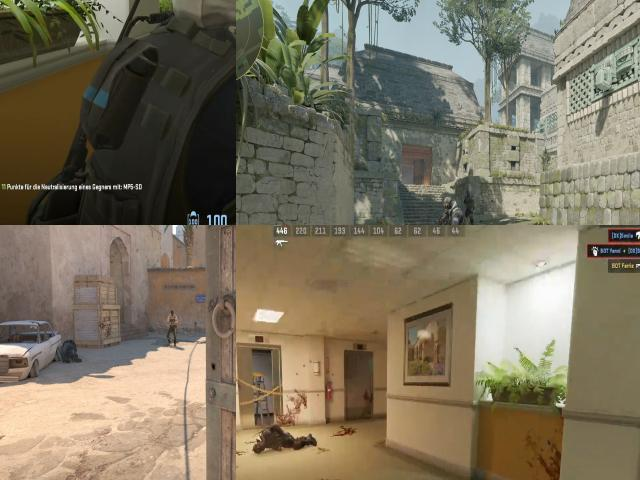CT: (439, 193, 464, 225), (461, 187, 476, 225)
CT-Head: (85, 0, 236, 199), (167, 0, 236, 48), (442, 194, 455, 215), (464, 189, 474, 198)
Dead: (247, 419, 318, 470), (63, 341, 83, 367)
T: (168, 310, 178, 346)
T-Head: (170, 308, 175, 318)
